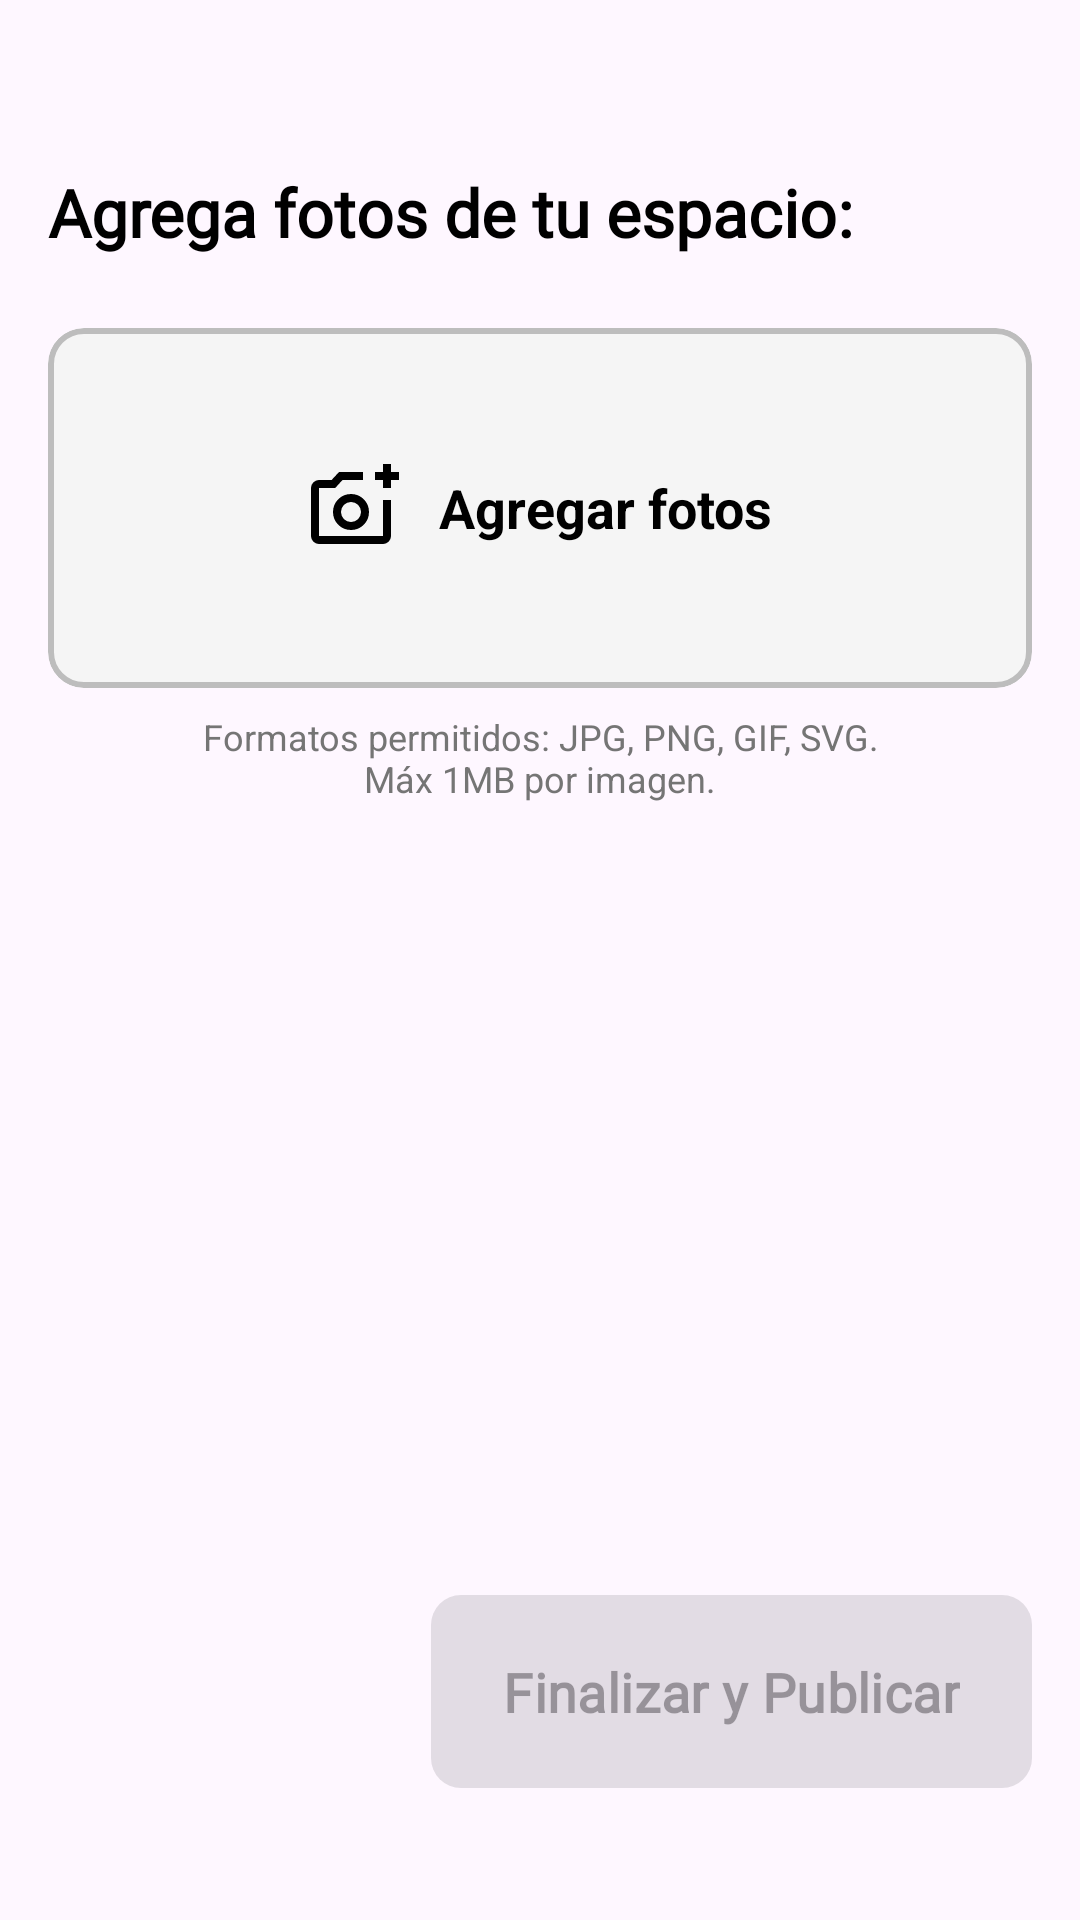

Where to tap for icons on this 1080 × 1920 app screen, as (x=x, y=y):
add photo: (x=355, y=504)
